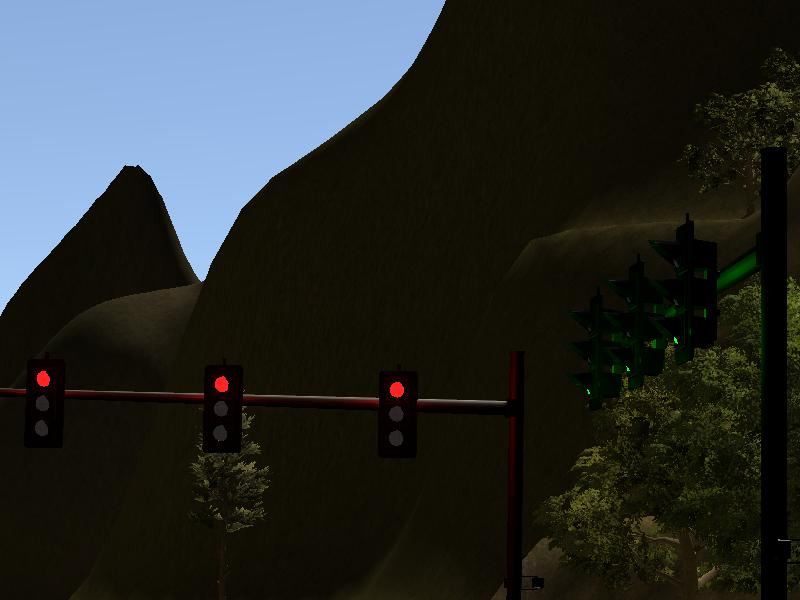Red: (22, 362, 62, 444), (204, 367, 242, 451), (380, 372, 415, 455)
